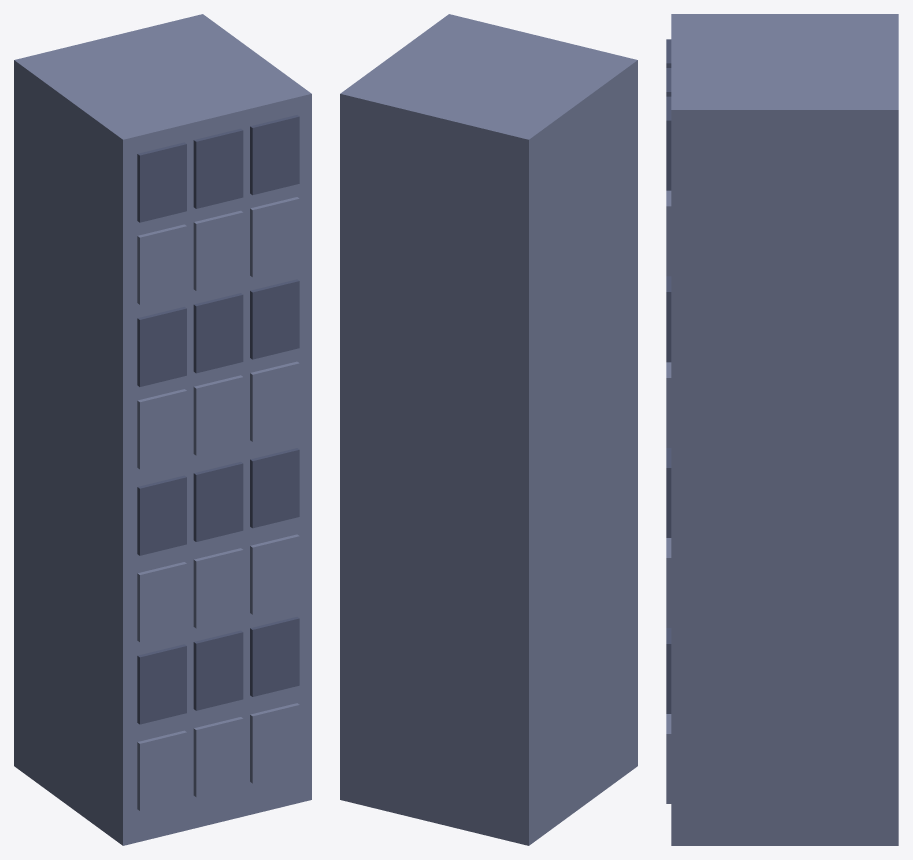
The model's file is Bina.fbx.
The picture shows the model from 3 angles, left to right: view 1: azimuth 30°, elevation 25°; view 2: azimuth 150°, elevation 25°; view 3: azimuth 270°, elevation 25°; orthographic projection. The views are drawn at different scales.
Parts seen in each view (by area): view 1: Cube, Plane.006, Plane.003, Plane.001, Plane.004, Plane, Plane.002, Plane.005, Plane.007; view 2: Cube; view 3: Cube, Plane, Plane.004, Plane.005, Plane.007, Plane.002, Plane.001, Plane.003, Plane.006.
Part boxes in pixels (x1=…): Cube: x1=14, y1=14, x2=311, y2=845; Plane.006: x1=137, y1=616, x2=299, y2=724; Plane.003: x1=137, y1=361, x2=299, y2=469; Plane.001: x1=137, y1=197, x2=299, y2=304; Plane.004: x1=137, y1=448, x2=299, y2=555; Plane: x1=137, y1=115, x2=299, y2=222; Plane.002: x1=137, y1=279, x2=299, y2=386; Plane.005: x1=137, y1=534, x2=299, y2=642; Plane.007: x1=137, y1=703, x2=299, y2=810; Cube: x1=340, y1=14, x2=637, y2=845; Cube: x1=671, y1=14, x2=898, y2=845; Plane: x1=666, y1=39, x2=671, y2=190; Plane.004: x1=666, y1=448, x2=671, y2=537; Plane.005: x1=666, y1=538, x2=671, y2=627; Plane.007: x1=666, y1=714, x2=671, y2=803; Plane.002: x1=666, y1=276, x2=671, y2=362; Plane.001: x1=666, y1=190, x2=671, y2=276; Plane.003: x1=666, y1=362, x2=671, y2=447; Plane.006: x1=666, y1=628, x2=671, y2=713.
Bounding box in the file's own units: 240 × 858 × 245.
